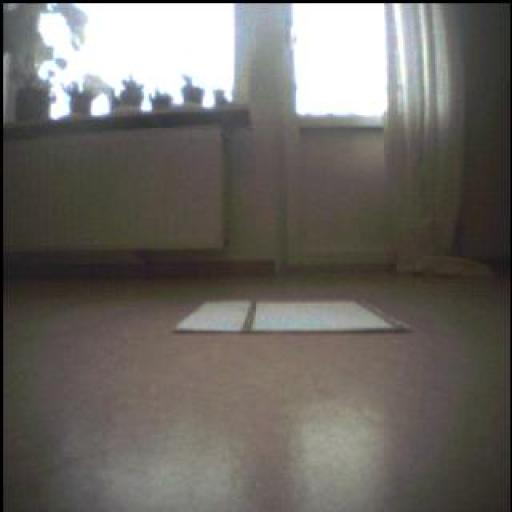Pad: (176, 299, 410, 332)
